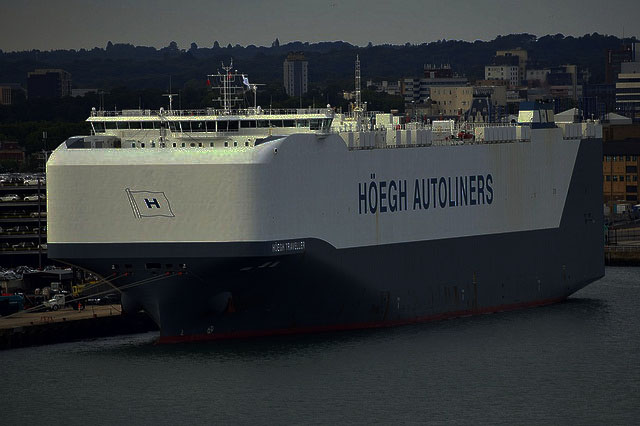PCC: (44, 64, 605, 345)
